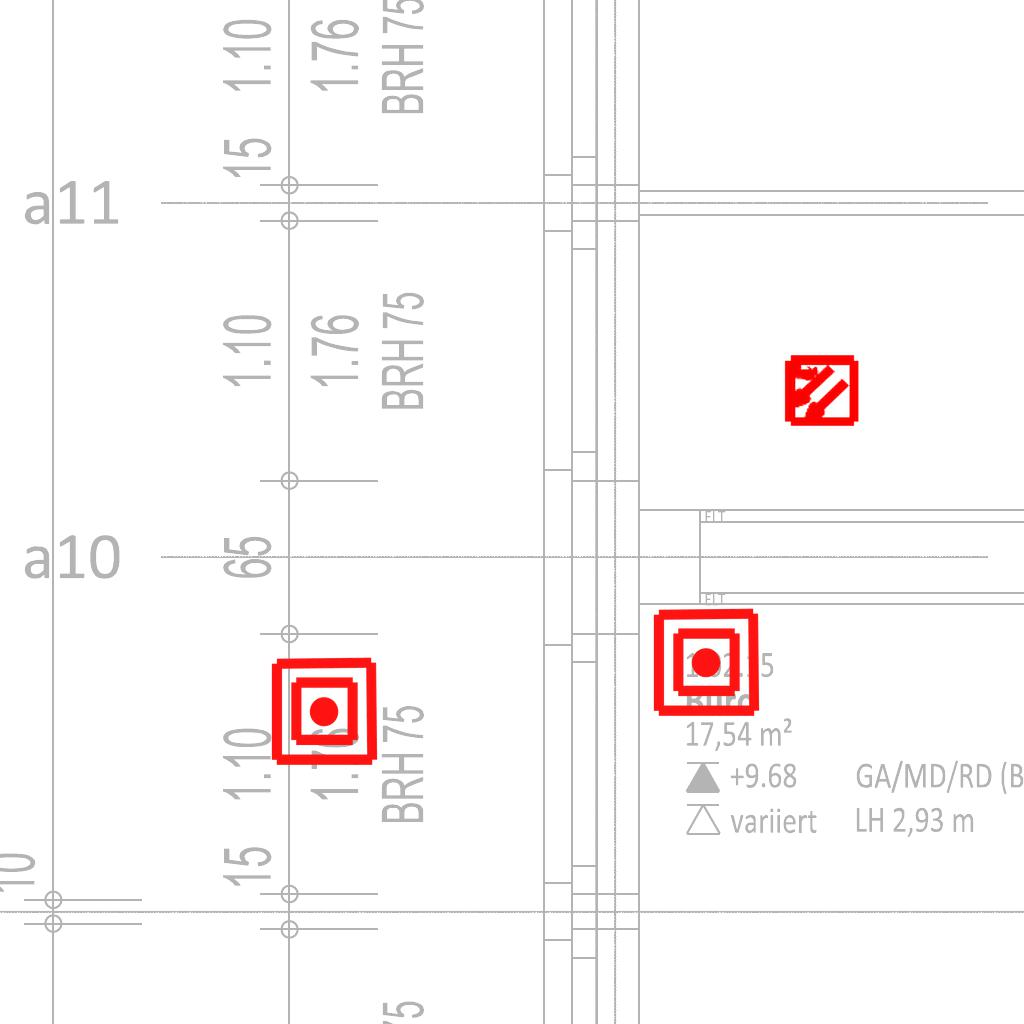NAM-Nichtautomatischer_Melder: (650, 606, 763, 719), (268, 655, 381, 768)
OT_Multisensormelder_(Kombination_RMO_WMD): (763, 334, 876, 447)
